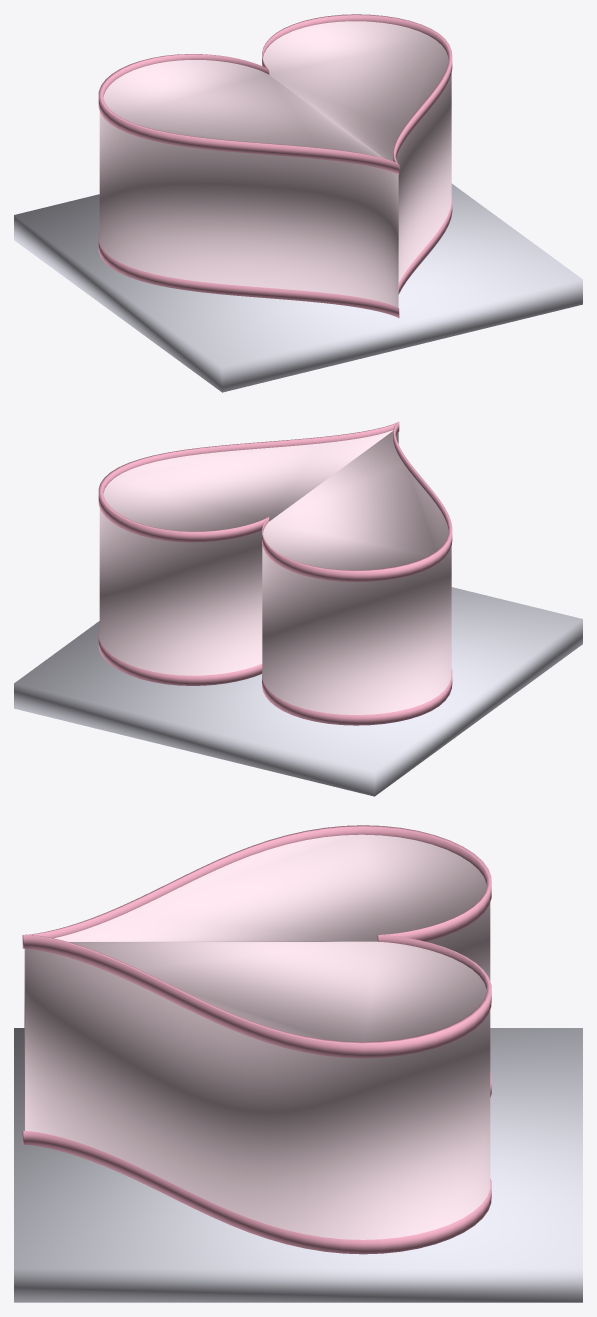
The model's file is heart_strawberry.glb.
3 views of the same model, one above another, from view 1: azimuth 30°, elevation 25°; view 2: azimuth 150°, elevation 25°; view 3: azimuth 270°, elevation 25° (orthographic). The views are drawn at different scales.
Parts seen in each view (by area): view 1: HeartCake, IcingStand, IcingRing, IcingRing.001; view 2: HeartCake, IcingStand, IcingRing, IcingRing.001; view 3: HeartCake, IcingStand, IcingRing, IcingRing.001.
Part boxes in pixels (x1,y1,x2,y2): HeartCake: (99, 21, 451, 307); IcingStand: (14, 183, 582, 392); IcingRing: (98, 14, 452, 174); IcingRing.001: (98, 194, 452, 317); HeartCake: (99, 430, 451, 714); IcingStand: (14, 587, 582, 796); IcingRing: (98, 422, 452, 581); IcingRing.001: (98, 630, 452, 725); HeartCake: (24, 834, 490, 1239); IcingStand: (14, 1028, 582, 1302); IcingRing: (22, 825, 491, 1058); IcingRing.001: (22, 1070, 491, 1254).
Size of the model in its own units: 3 by 1.44 by 3.
